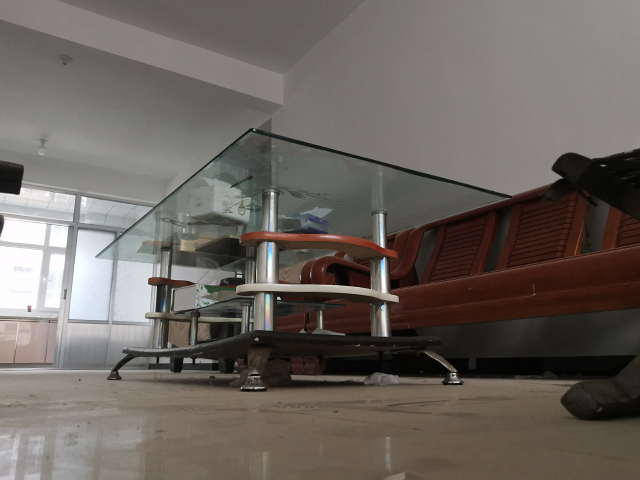stool: (409, 151, 639, 328)
table: (93, 125, 512, 394)
